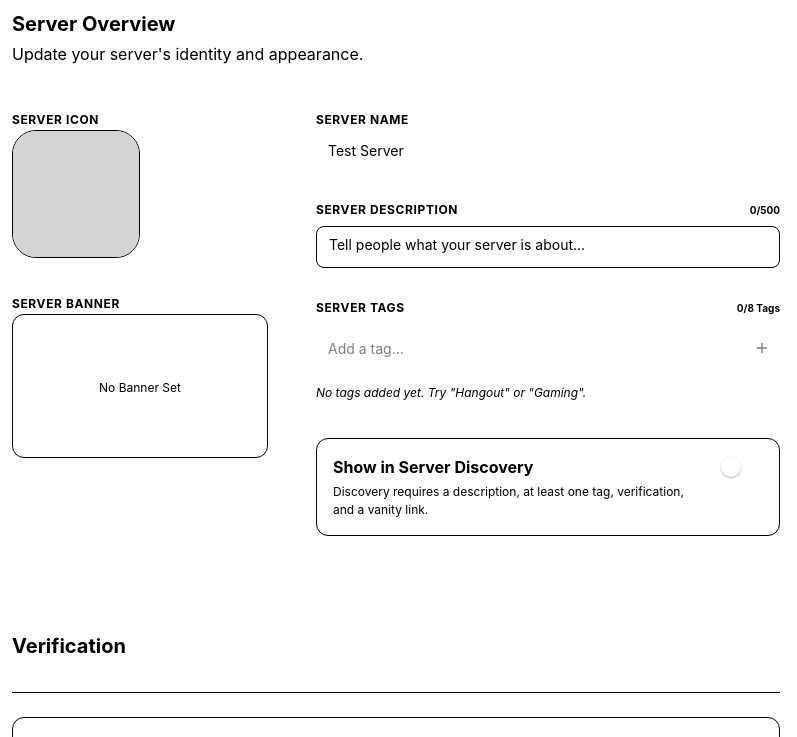
Test: ServerOverviewSettings › shows discovery blockers when opt-in is enabled before eligibility is met
Click the checkbox named "Show in Server Discovery": (731,467) [721, 457, 741, 477]
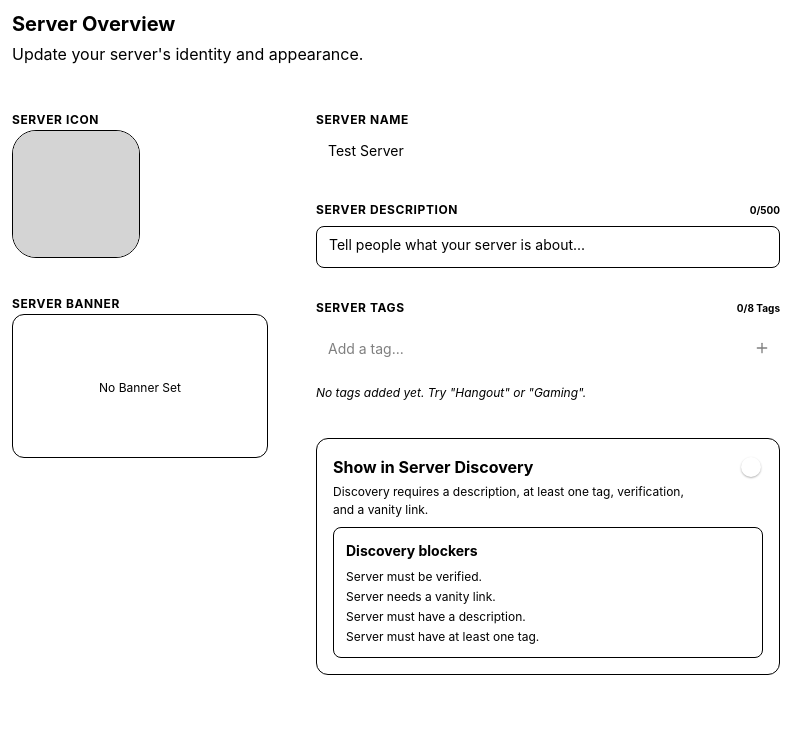
Expected: the text "Discovery blockers" is shown, [346, 542, 478, 559]
Expected: the list item "Server must be verified." is shown, [346, 569, 482, 584]
Expected: the list item "Server needs a vanity link." is shown, [346, 589, 496, 604]
